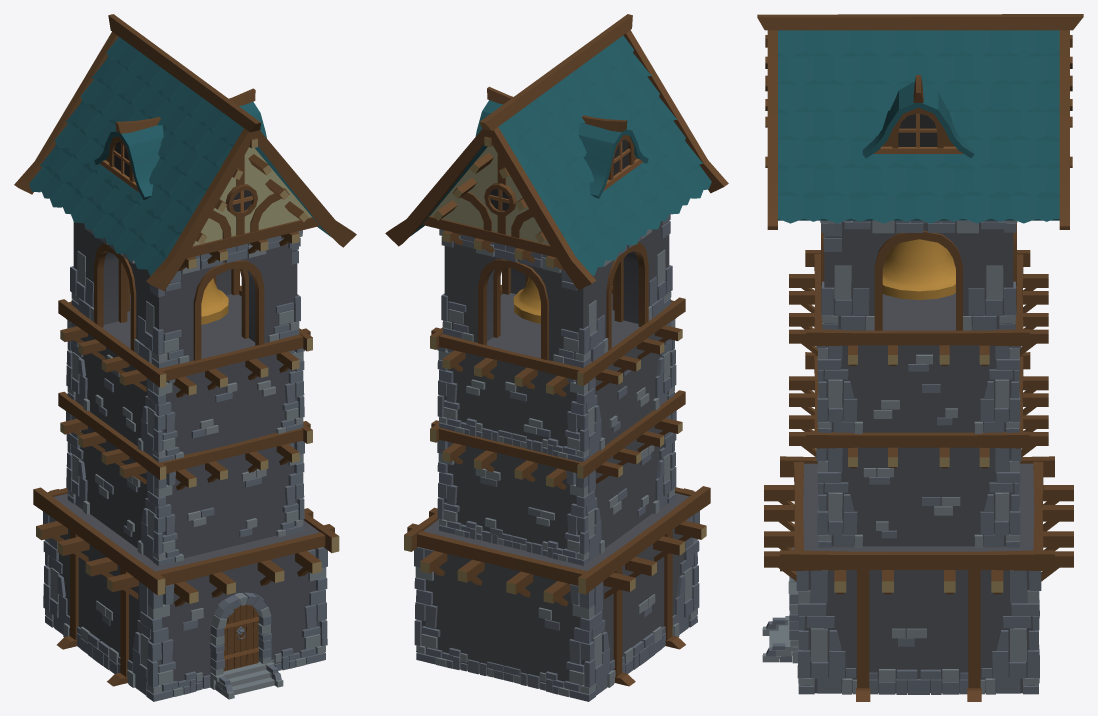
The model's file is Bell_Tower.gltf.
3 renders of one model, left to right at view 1: azimuth 30°, elevation 25°; view 2: azimuth 150°, elevation 25°; view 3: azimuth 270°, elevation 25°, orthographic. The views are drawn at different scales.
Parts seen in each view (by area): view 1: Bell_Tower_Cube.296; view 2: Bell_Tower_Cube.296; view 3: Bell_Tower_Cube.296.
Boxes of the visible parts, <box> form: Bell_Tower_Cube.296: <box>14,14,356,701</box>; Bell_Tower_Cube.296: <box>385,14,728,701</box>; Bell_Tower_Cube.296: <box>757,14,1083,701</box>.
Size of the model in its own units: 1.94 by 4.76 by 2.23.
